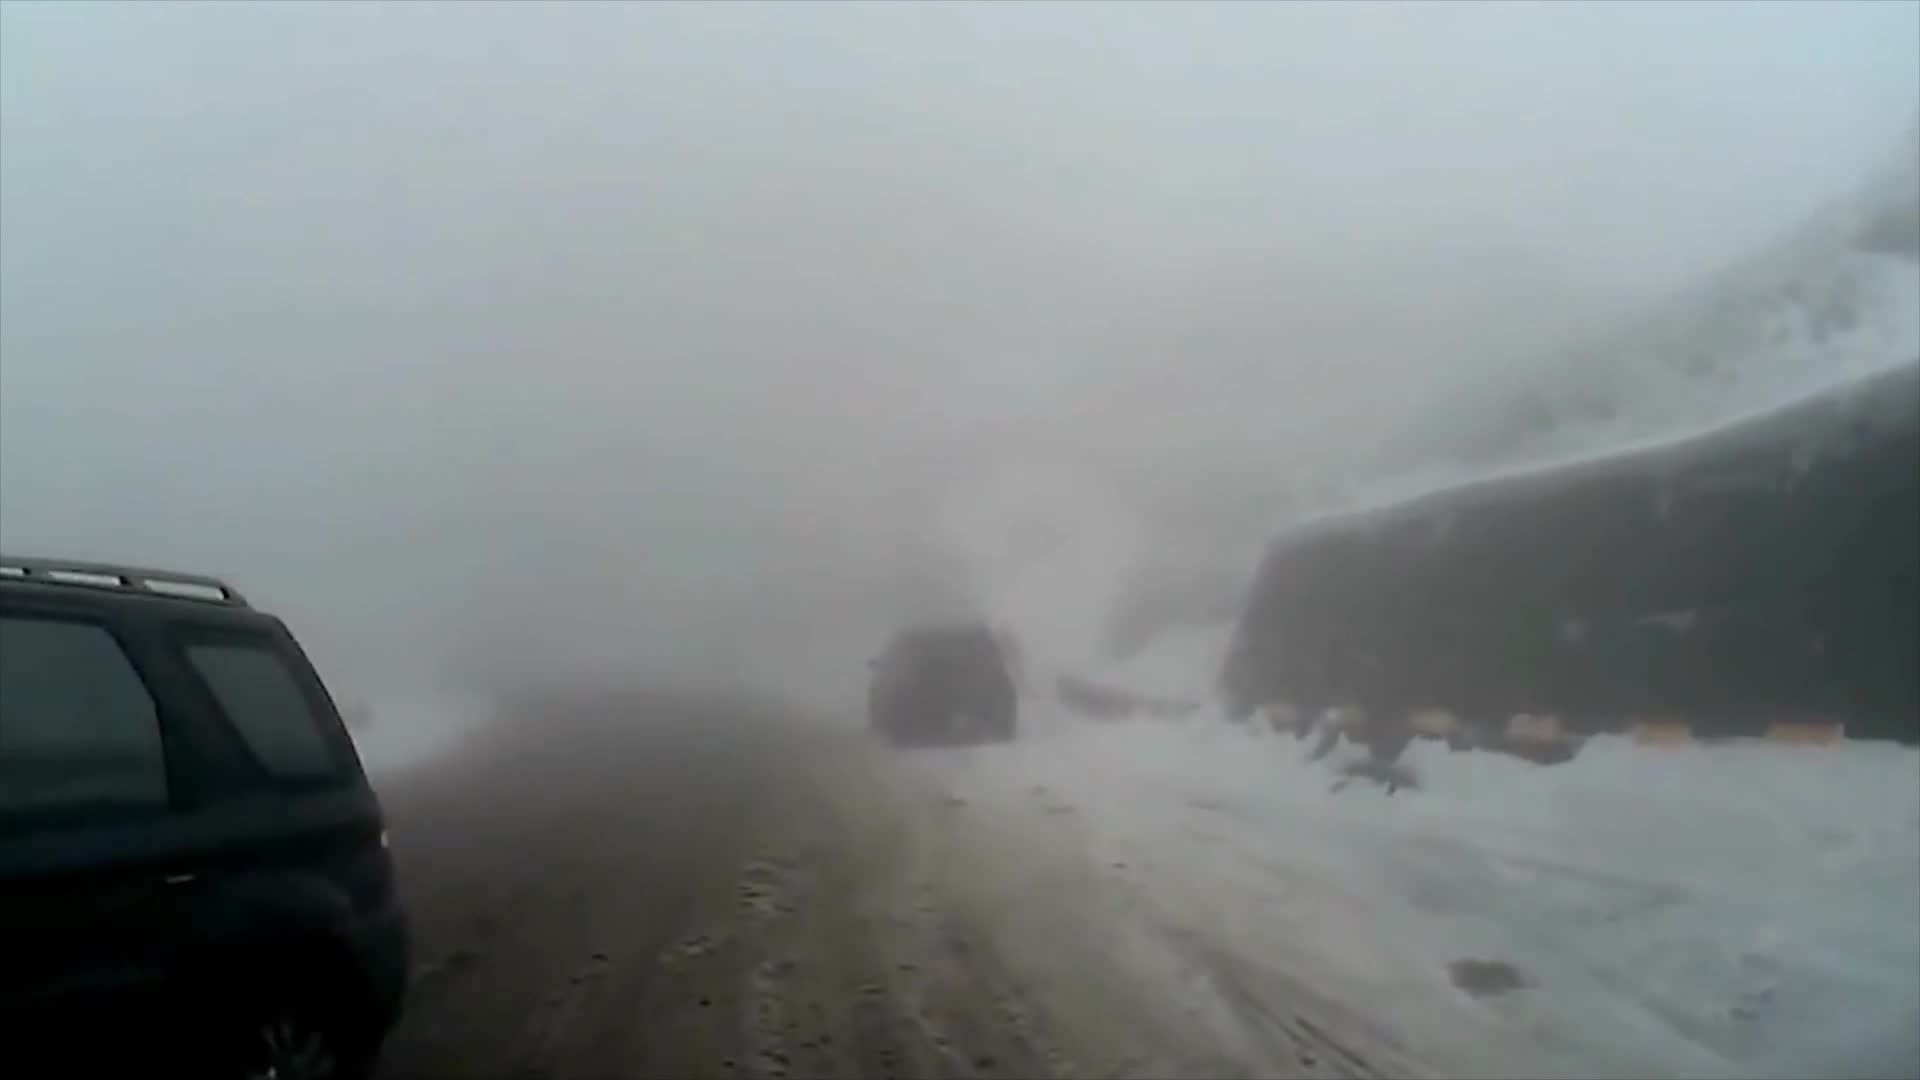vehicle: (0, 553, 410, 1073), (862, 616, 1017, 748)
